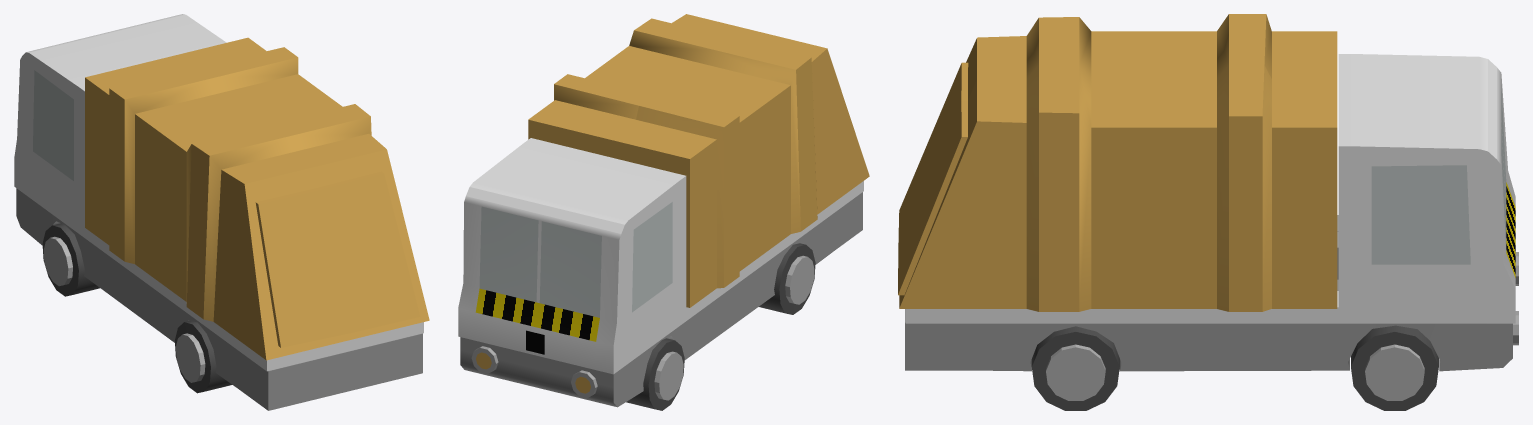
File: garbadgetruck 1.fbx
3 views of the same model, side by side, from view 1: azimuth 30°, elevation 25°; view 2: azimuth 150°, elevation 25°; view 3: azimuth 270°, elevation 25° (orthographic). The views are drawn at different scales.
Parts seen in each view (by area): view 1: garbadgetruck; view 2: garbadgetruck; view 3: garbadgetruck.
Part boxes in pixels (x1,y1,x2,y2): garbadgetruck: [14, 14, 429, 410]; garbadgetruck: [458, 14, 869, 410]; garbadgetruck: [898, 14, 1518, 410].
Bounding box in the file's own units: 5.57 × 7.42 × 14.1.
9 materials, 2 textured.
